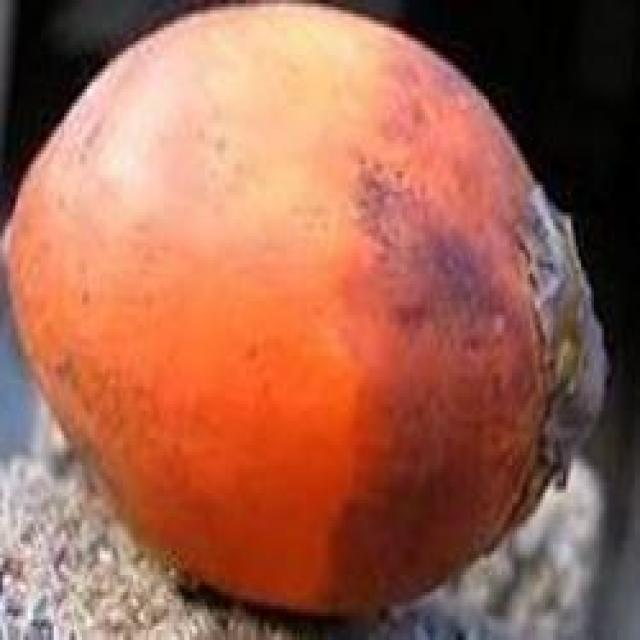good: (5, 3, 609, 614)
